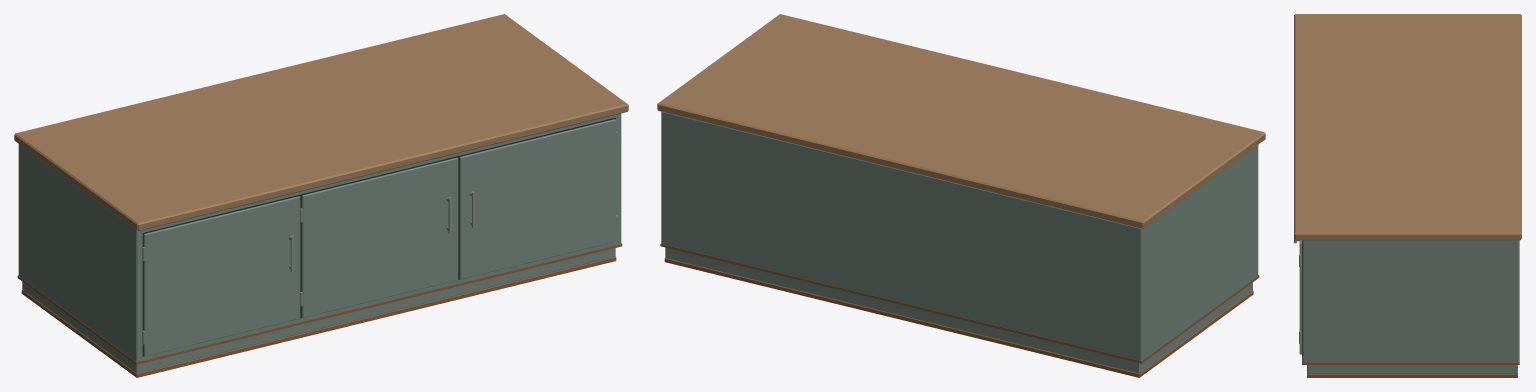
The model's file is ferro_balcao.glb.
The picture shows the model from 3 angles, left to right: view 1: azimuth 30°, elevation 25°; view 2: azimuth 150°, elevation 25°; view 3: azimuth 270°, elevation 25°; orthographic projection. The views are drawn at different scales.
Parts seen in each view (by area): view 1: Worktop, Cabinet_Body, Door_2, Door_1, Door_3, Plinth, Plinth_RustBase, Body_RustSeam, Door_Recess; view 2: Cabinet_Body, Worktop, Plinth, Plinth_RustBase, Body_RustSeam; view 3: Worktop, Cabinet_Body, Plinth, Plinth_RustBase, Body_RustSeam, Door_3.
Boxes of the visible parts, left/top/right/bottom form: Worktop: left=14, top=14, right=628, bottom=230; Cabinet_Body: left=18, top=113, right=621, bottom=361; Door_2: left=301, top=157, right=458, bottom=317; Door_1: left=144, top=196, right=300, bottom=356; Door_3: left=459, top=119, right=615, bottom=279; Plinth: left=22, top=248, right=615, bottom=373; Plinth_RustBase: left=21, top=257, right=616, bottom=377; Body_RustSeam: left=17, top=243, right=622, bottom=364; Door_Recess: left=142, top=117, right=615, bottom=356; Cabinet_Body: left=661, top=111, right=1258, bottom=360; Worktop: left=657, top=14, right=1265, bottom=228; Plinth: left=665, top=247, right=1252, bottom=373; Plinth_RustBase: left=664, top=258, right=1253, bottom=377; Body_RustSeam: left=660, top=243, right=1259, bottom=363; Worktop: left=1294, top=14, right=1521, bottom=240; Cabinet_Body: left=1302, top=240, right=1519, bottom=362; Plinth: left=1307, top=365, right=1517, bottom=373; Plinth_RustBase: left=1307, top=365, right=1517, bottom=377; Body_RustSeam: left=1302, top=240, right=1519, bottom=364; Door_3: left=1299, top=240, right=1301, bottom=354.
Bounding box in the file's own units: 3.2 × 1 × 1.4.
